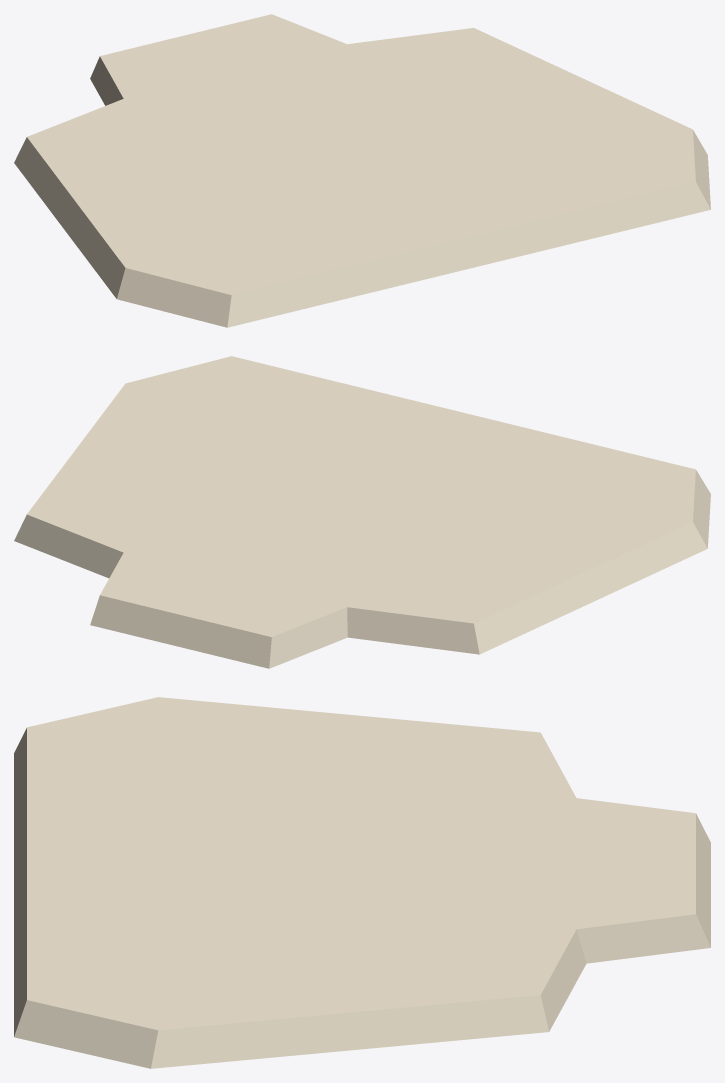
File: SunnyLoop_Space_Symbol_Item_v1.glb
The picture shows the model from 3 angles, top to bottom: view 1: azimuth 30°, elevation 25°; view 2: azimuth 150°, elevation 25°; view 3: azimuth 270°, elevation 25°; orthographic projection. The views are drawn at different scales.
Visible parts, largest first — view 1: SunnyLoop_Space_Symbol_Item_v1; view 2: SunnyLoop_Space_Symbol_Item_v1; view 3: SunnyLoop_Space_Symbol_Item_v1.
Part boxes in pixels (bbox=[...]): SunnyLoop_Space_Symbol_Item_v1: bbox=[14, 14, 710, 327]; SunnyLoop_Space_Symbol_Item_v1: bbox=[14, 356, 710, 668]; SunnyLoop_Space_Symbol_Item_v1: bbox=[14, 697, 710, 1068].
Size of the model in its own units: 0.924 by 0.0392 by 0.784.
